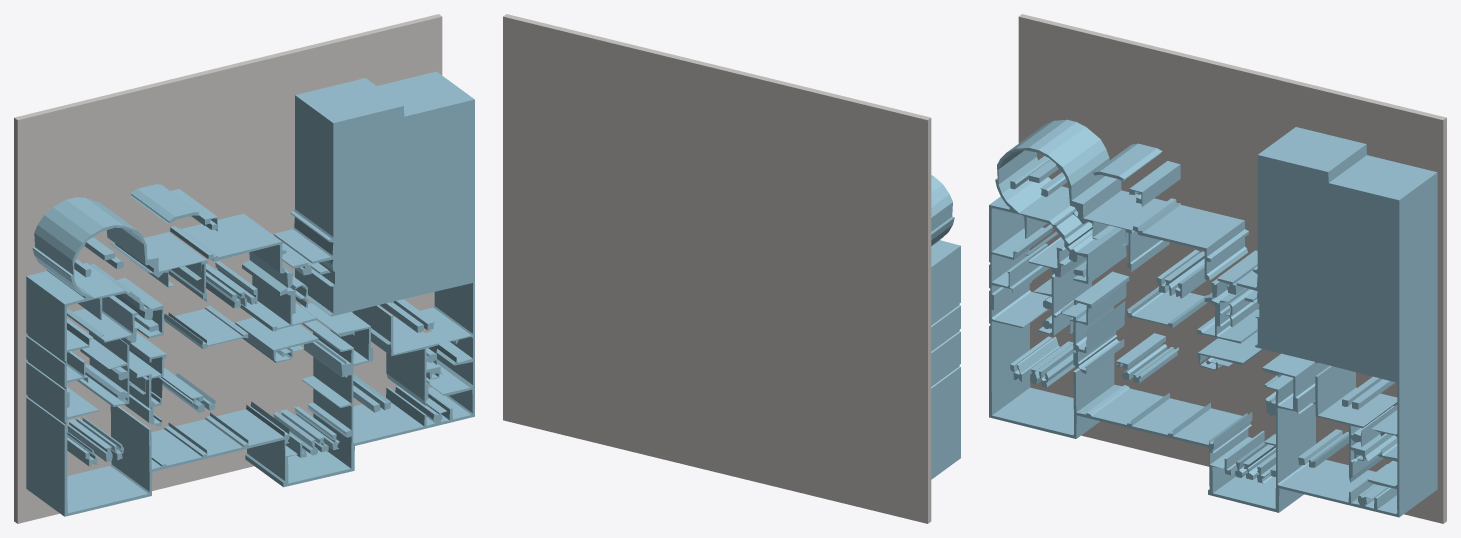
The picture shows the model from 3 angles, left to right: view 1: azimuth 30°, elevation 25°; view 2: azimuth 150°, elevation 25°; view 3: azimuth 330°, elevation 25°; orthographic projection.
Visible parts, largest first — view 1: world; view 2: world; view 3: world.
Part boxes in pixels (x1,y1,x2,y2): world: [14, 14, 474, 523]; world: [503, 14, 960, 523]; world: [989, 14, 1446, 523].
Size of the model in its own units: 10.23 by 9.29 by 1.75.
